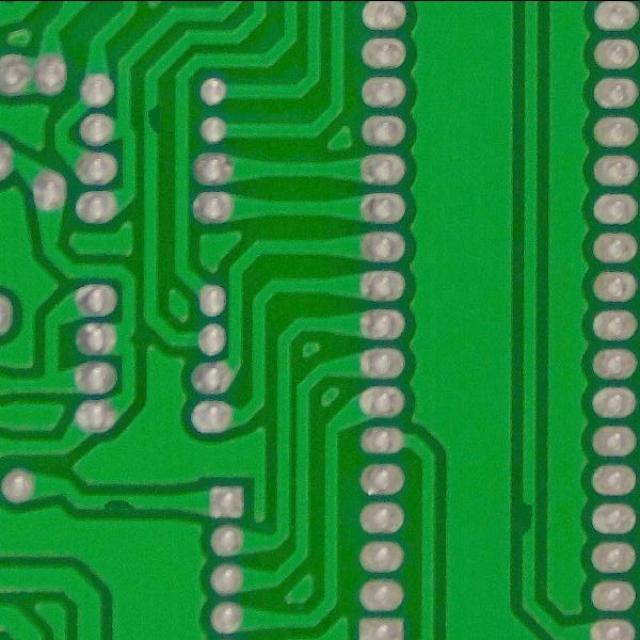mouse_bite: (513, 492, 545, 544), (95, 488, 143, 522), (136, 101, 170, 144)
